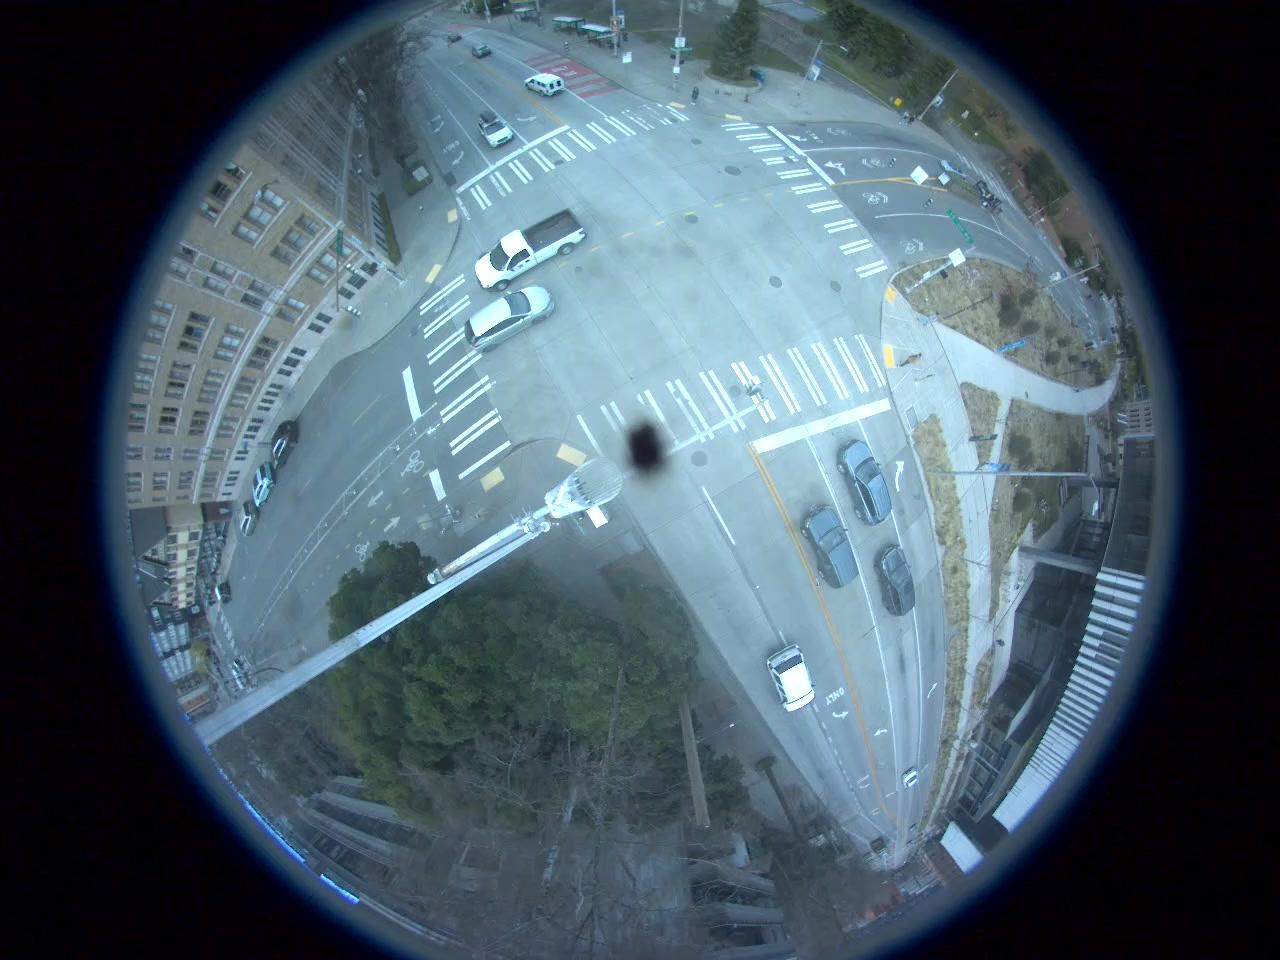car: (478, 215, 582, 285), (796, 506, 869, 589), (470, 286, 552, 346), (842, 438, 897, 524), (874, 544, 920, 618), (766, 644, 814, 711), (464, 109, 516, 151), (524, 69, 568, 100), (272, 425, 300, 468), (236, 502, 262, 540), (250, 464, 273, 505), (898, 762, 920, 790), (471, 46, 496, 60)
person: (901, 350, 924, 372), (916, 310, 942, 328), (689, 79, 701, 107)
